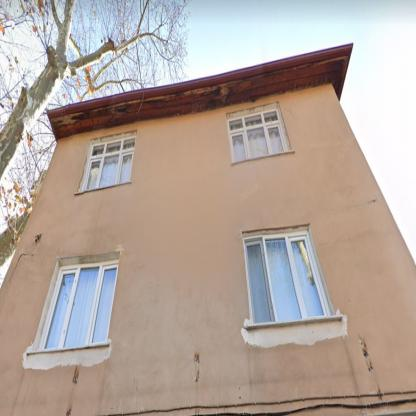window: (244, 235, 327, 324), (41, 262, 118, 349), (229, 110, 286, 162), (82, 137, 135, 189)
